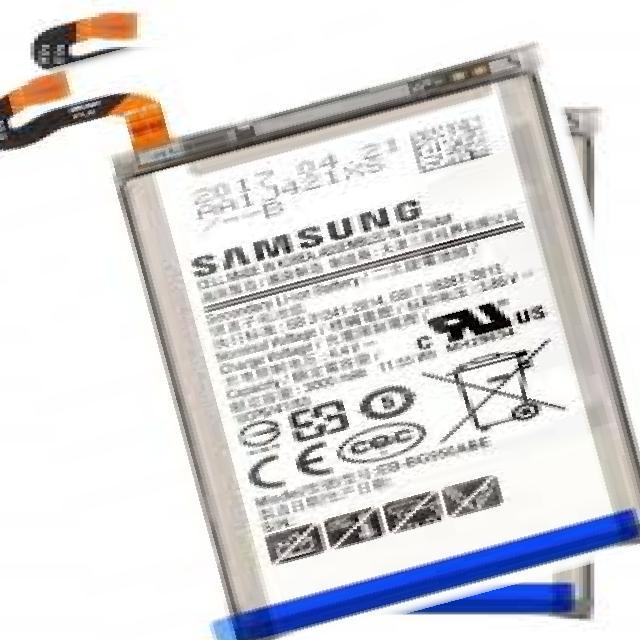Battery: (22, 14, 640, 640)
